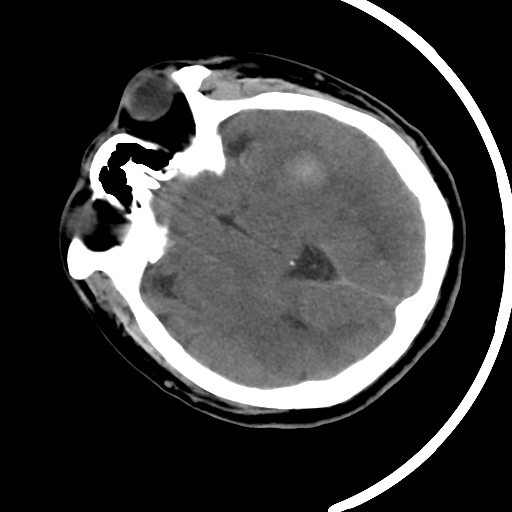a: (263, 130, 345, 210)
